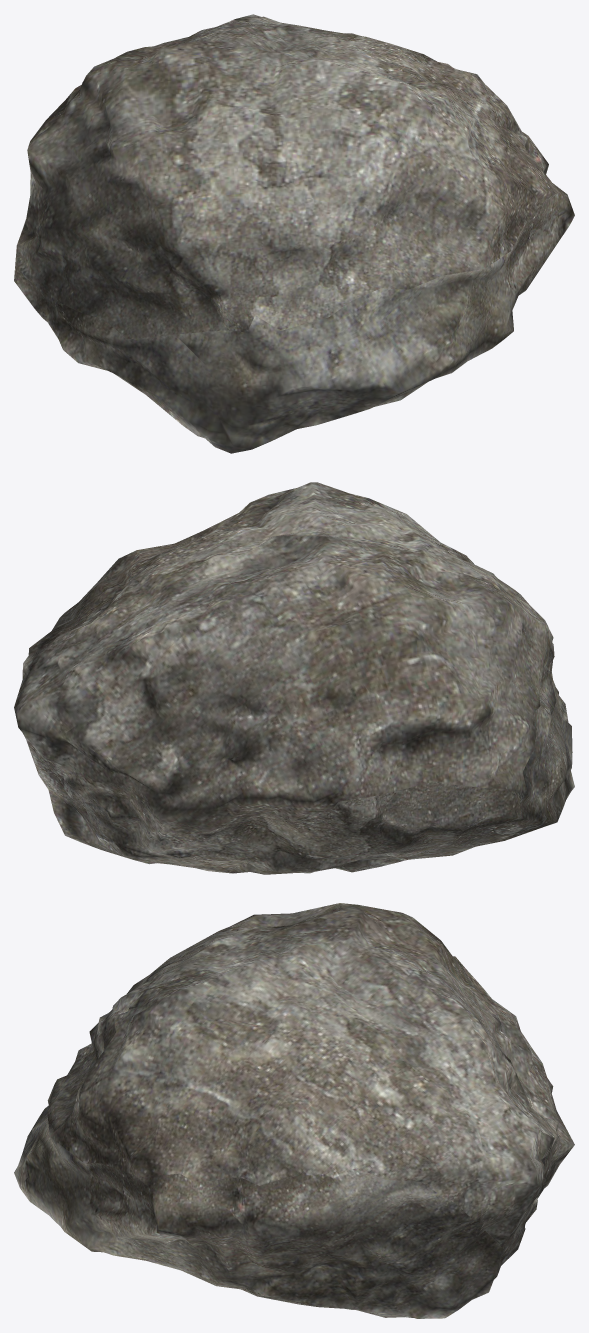
Rendered from stone.fbx.
The picture shows the model from 3 angles, top to bottom: view 1: azimuth 30°, elevation 25°; view 2: azimuth 150°, elevation 25°; view 3: azimuth 270°, elevation 25°; orthographic projection.
Visible parts, largest first — view 1: LowPoly001; view 2: LowPoly001; view 3: LowPoly001.
Boxes of the visible parts, left/top/right/bottom form: LowPoly001: left=14, top=14, right=574, bottom=453; LowPoly001: left=14, top=482, right=574, bottom=874; LowPoly001: left=14, top=903, right=574, bottom=1318.
Bounding box in the file's own units: 255 × 249 × 160.
Materials: 1 (1 with a texture image).
